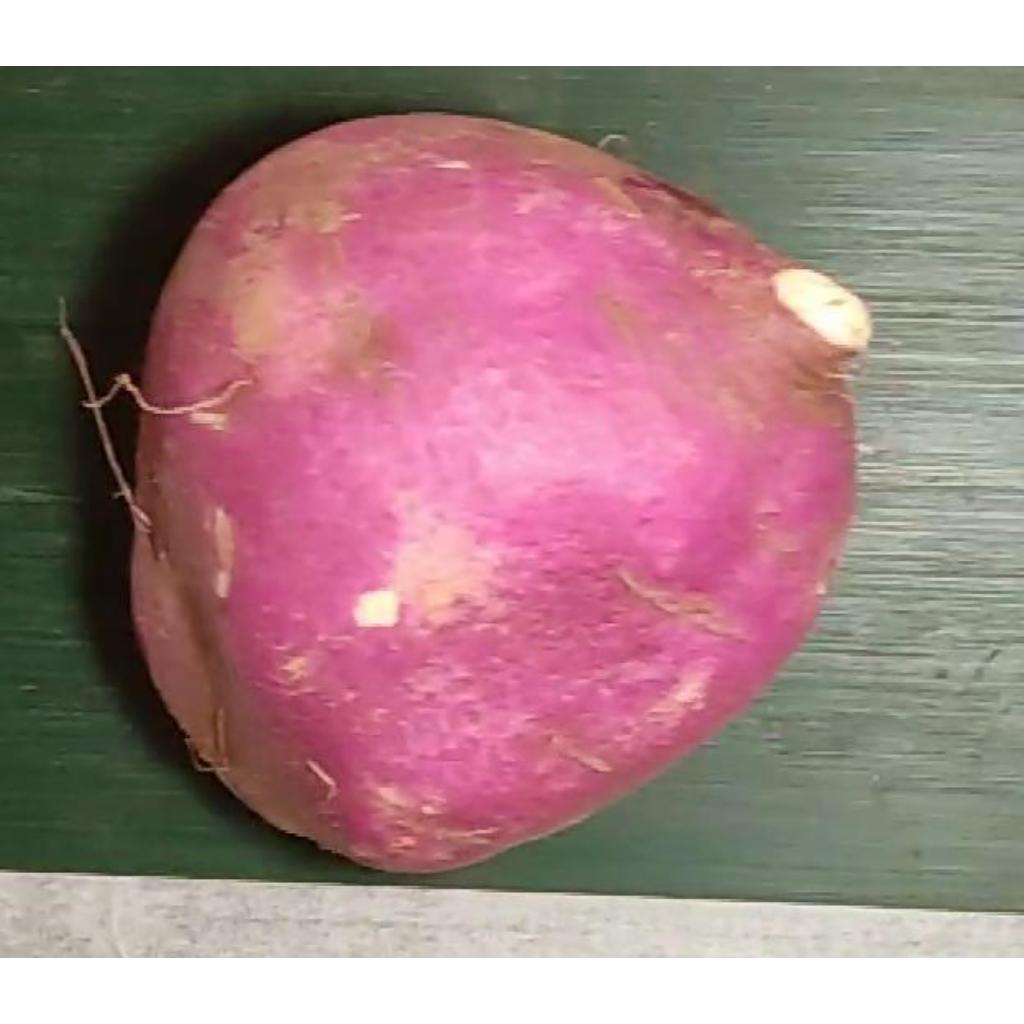Sweet Potato: (130, 110, 873, 880)
